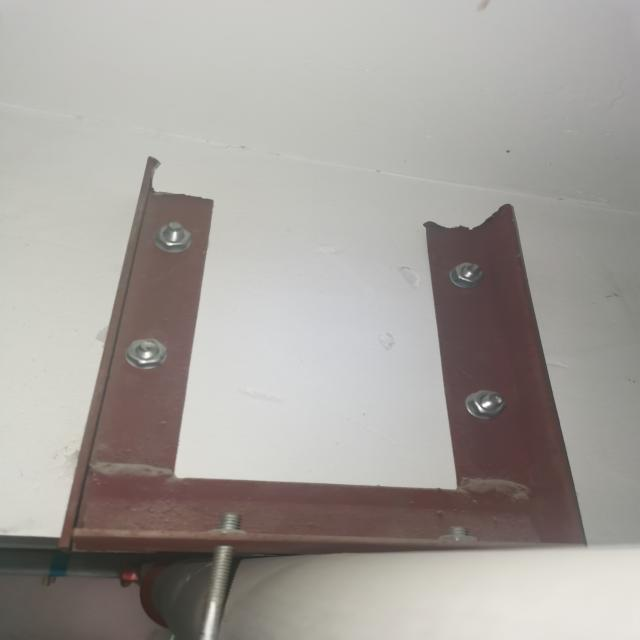bolt nut: (126, 335, 170, 369), (466, 388, 507, 419), (154, 222, 193, 250), (450, 261, 486, 289)
bolt side: (433, 531, 481, 546)
